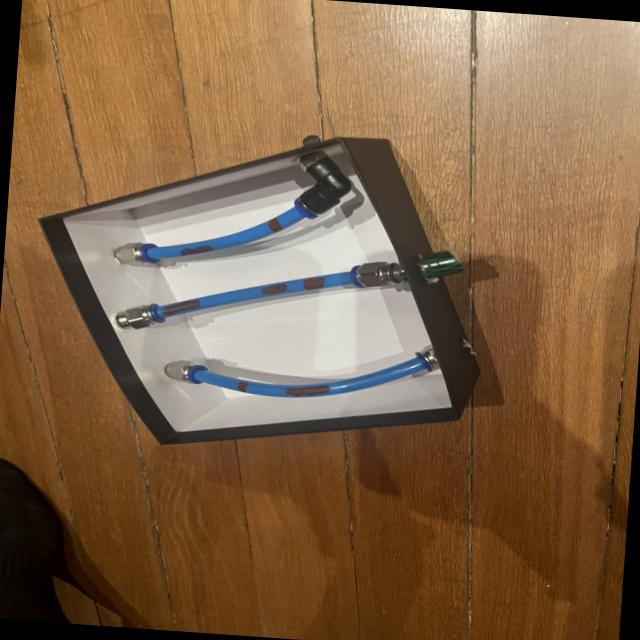hose_damage: (157, 298, 203, 317), (282, 383, 334, 398), (177, 243, 216, 257), (257, 281, 291, 297), (299, 274, 326, 292), (263, 216, 285, 234), (235, 379, 251, 393)
